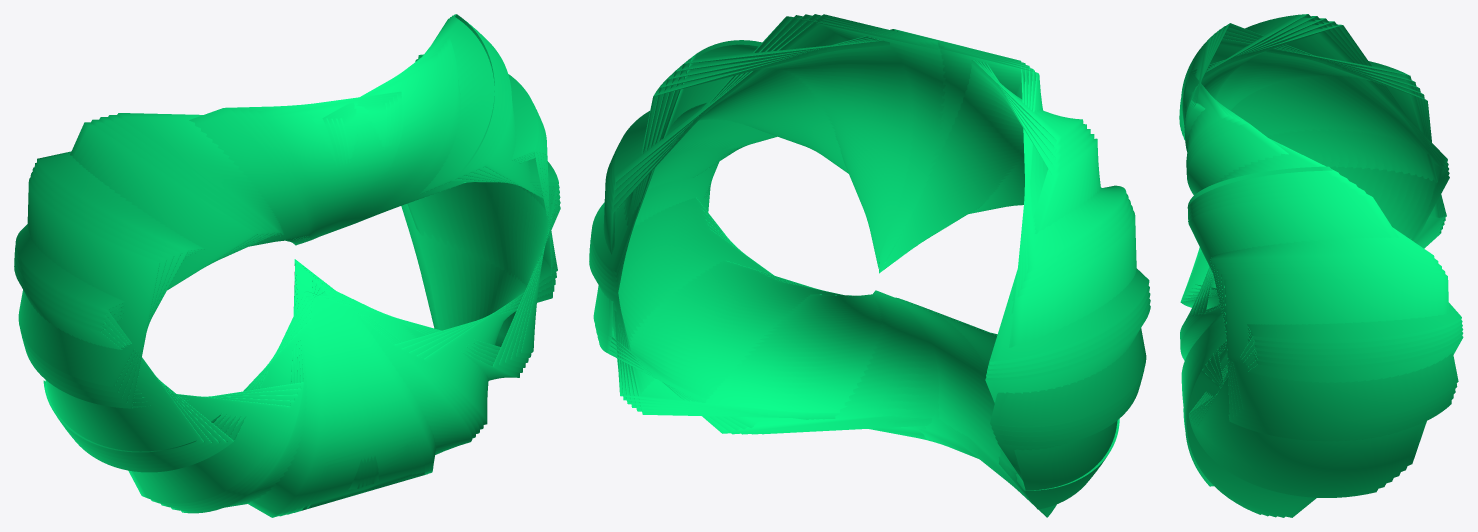
The model's file is vesica-piscis-solid.gltf.
The picture shows the model from 3 angles, left to right: view 1: azimuth 30°, elevation 25°; view 2: azimuth 150°, elevation 25°; view 3: azimuth 270°, elevation 25°; orthographic projection. The views are drawn at different scales.
Visible parts, largest first — view 1: vesica_piscis_solid; view 2: vesica_piscis_solid; view 3: vesica_piscis_solid.
Boxes of the visible parts, bbox=[...] form: vesica_piscis_solid: bbox=[14, 14, 560, 517]; vesica_piscis_solid: bbox=[589, 14, 1150, 517]; vesica_piscis_solid: bbox=[1179, 14, 1463, 517].
Bounding box in the file's own units: 0.5013 × 0.4013 × 0.2669.
